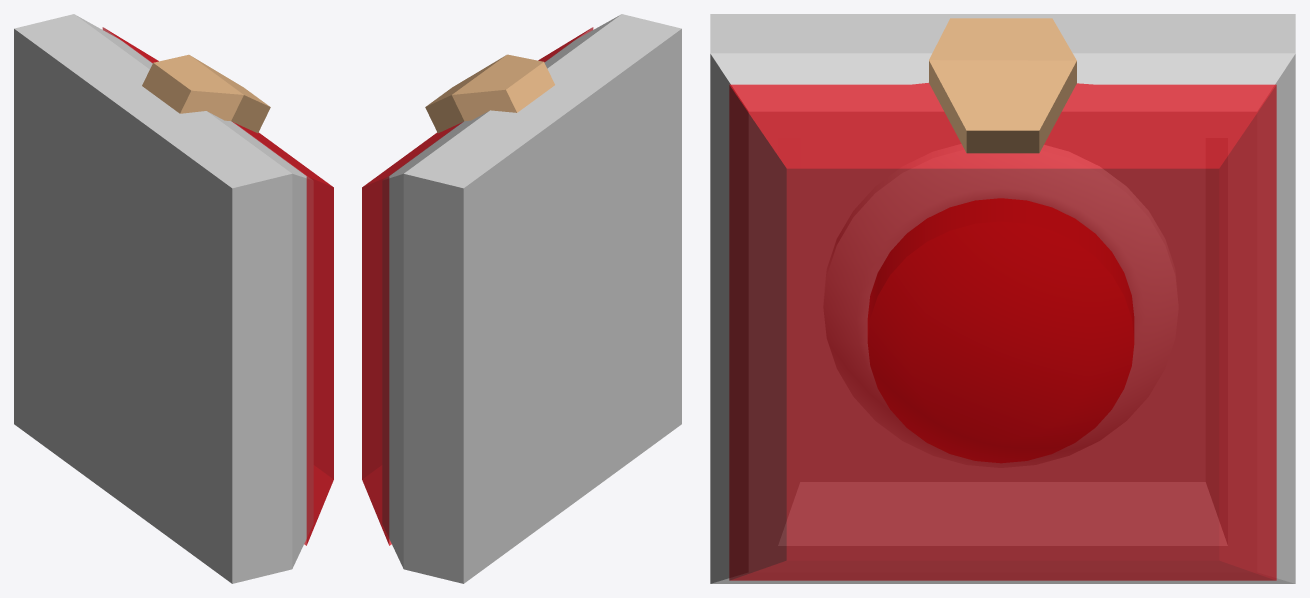
File: AppGameButton.fbx
3 views of the same model, side by side, from view 1: azimuth 30°, elevation 25°; view 2: azimuth 150°, elevation 25°; view 3: azimuth 270°, elevation 25° (orthographic). The views are drawn at different scales.
Parts seen in each view (by area): view 1: Cube.026, Cube.027; view 2: Cube.026, Cube.027; view 3: Cube.027, Cube.026, Circle.016.
Part boxes in pixels (left/top/right/bottom): Cube.026: left=14, top=14, right=313, bottom=583; Cube.027: left=102, top=27, right=333, bottom=545; Cube.026: left=382, top=14, right=681, bottom=583; Cube.027: left=362, top=27, right=593, bottom=545; Cube.027: left=729, top=18, right=1276, bottom=580; Cube.026: left=710, top=14, right=1295, bottom=583; Circle.016: left=823, top=144, right=1178, bottom=467.
Size of the model in its own units: 29.12 by 86.3 by 82.06.
